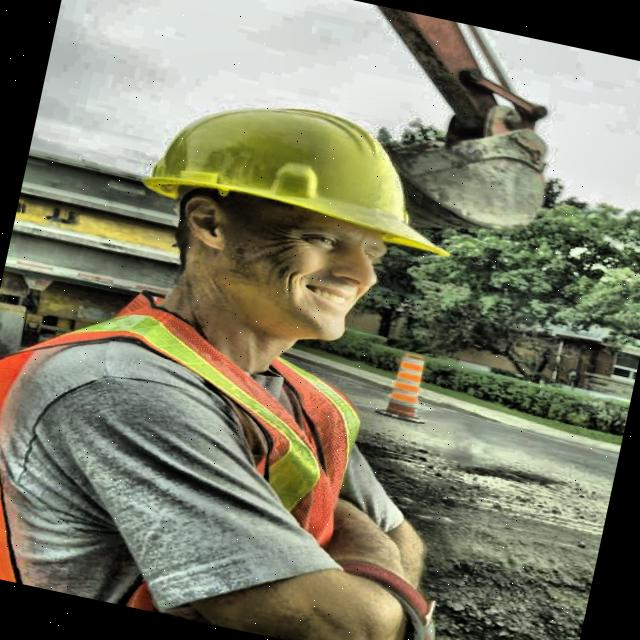helmet: (76, 45, 498, 382)
